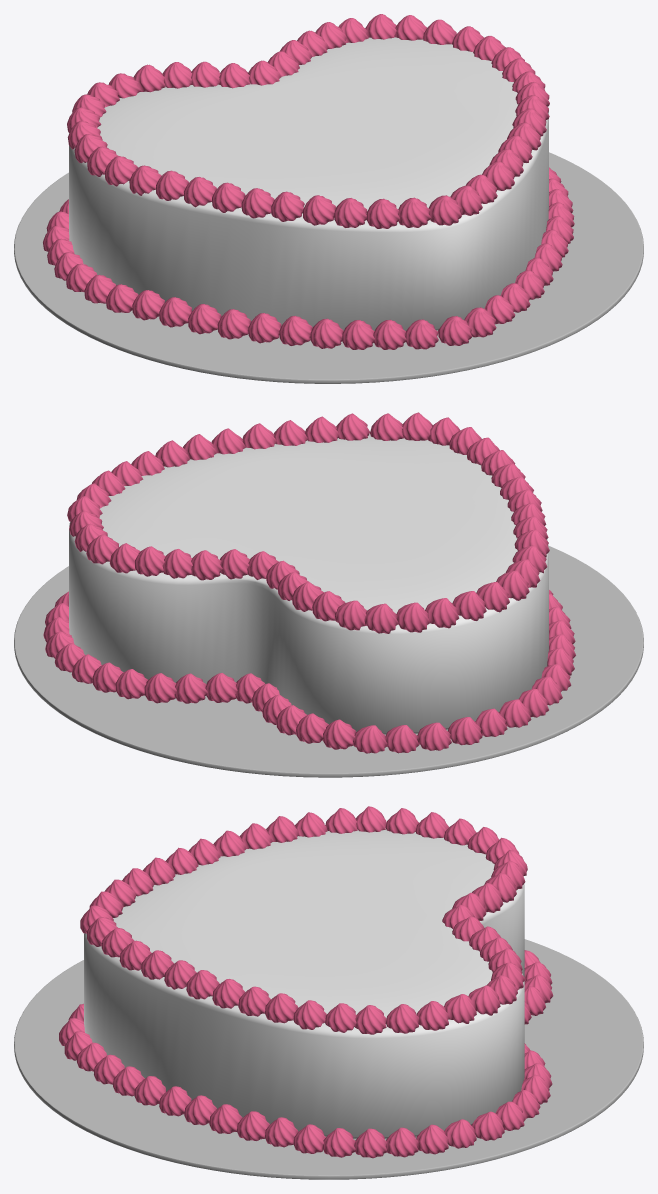
File: Heart_Shaped_Cake.fbx
3 views of the same model, one above another, from view 1: azimuth 30°, elevation 25°; view 2: azimuth 150°, elevation 25°; view 3: azimuth 270°, elevation 25° (orthographic).
Parts seen in each view (by area): view 1: Base, Plate, Top, Bottom; view 2: Base, Plate, Top, Bottom; view 3: Base, Plate, Top, Bottom.
Part boxes in pixels (bbox=[...]): Base: bbox=[69, 37, 548, 330]; Plate: bbox=[14, 152, 643, 383]; Top: bbox=[67, 14, 549, 228]; Bottom: bbox=[43, 167, 574, 349]; Base: bbox=[69, 434, 548, 734]; Plate: bbox=[14, 546, 643, 777]; Top: bbox=[67, 412, 549, 633]; Bottom: bbox=[43, 590, 575, 753]; Base: bbox=[84, 828, 524, 1139]; Plate: bbox=[14, 939, 643, 1179]; Top: bbox=[80, 806, 527, 1034]; Bottom: bbox=[59, 950, 553, 1158].
Size of the model in its own units: 0.384 by 0.0956 by 0.384.
